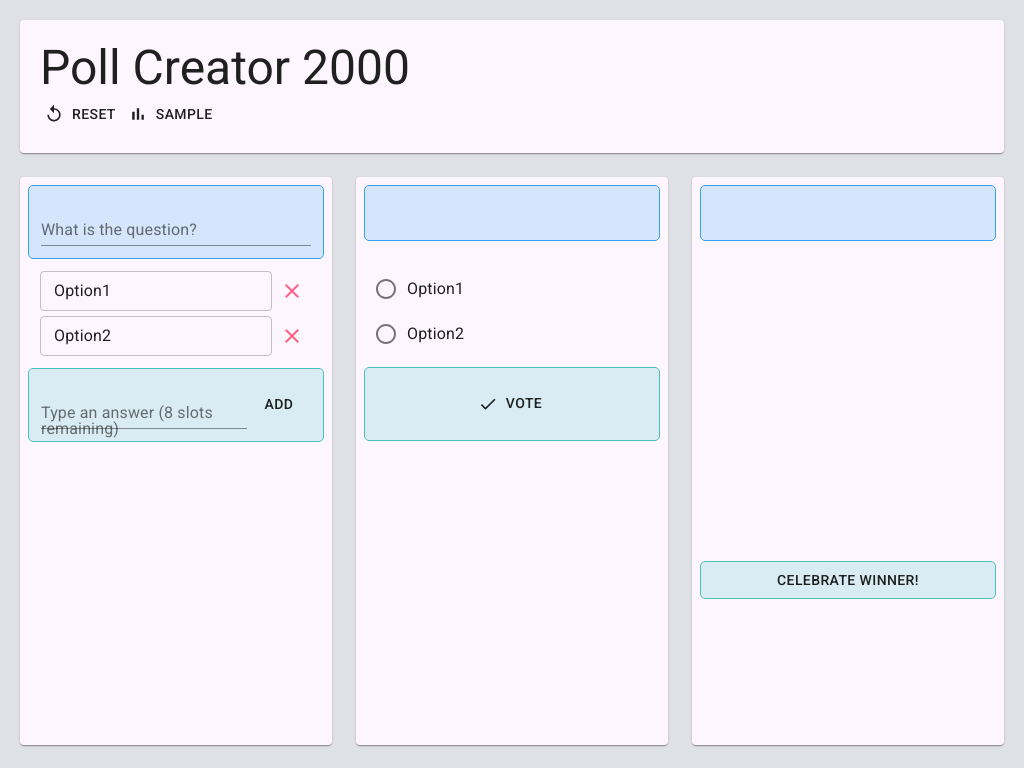
Test: poll_create › user can add a new option to the list
The width and height of the screenshot is (1024, 768).
Type in TestOption
Type "TestOption" into the field with test id "add-option-field". click: (144, 412)
box: [41,396,247,428]
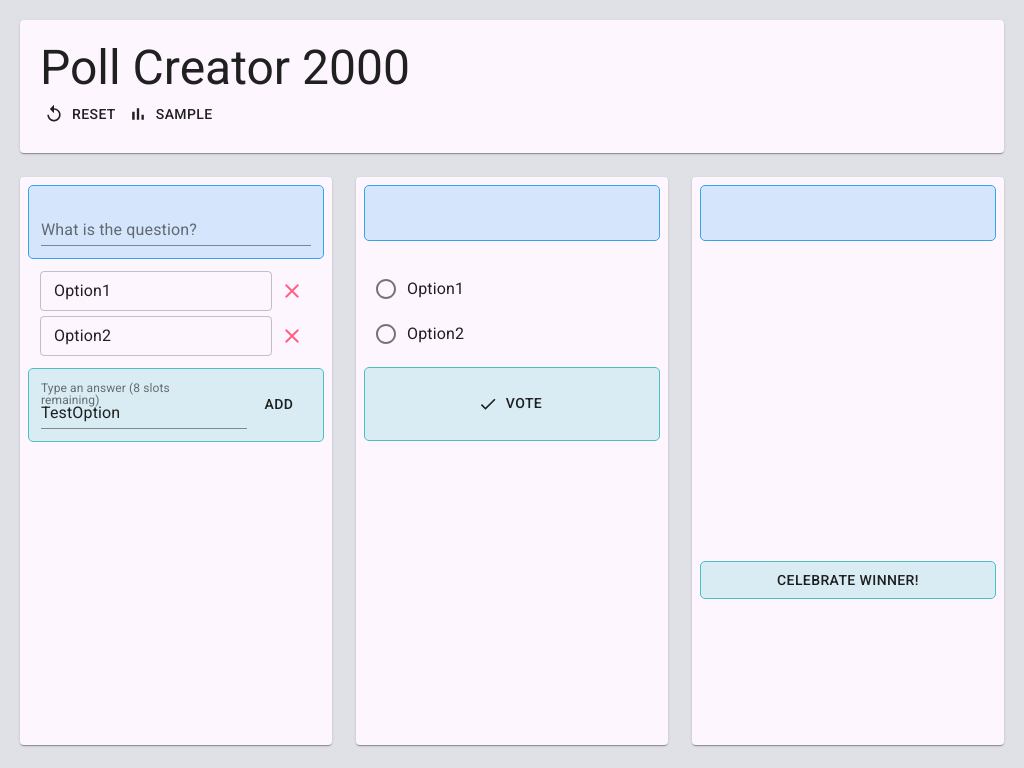
Submit with button
Click the button with test id "add-option-button". click: (279, 404)
box: [247,380,311,428]
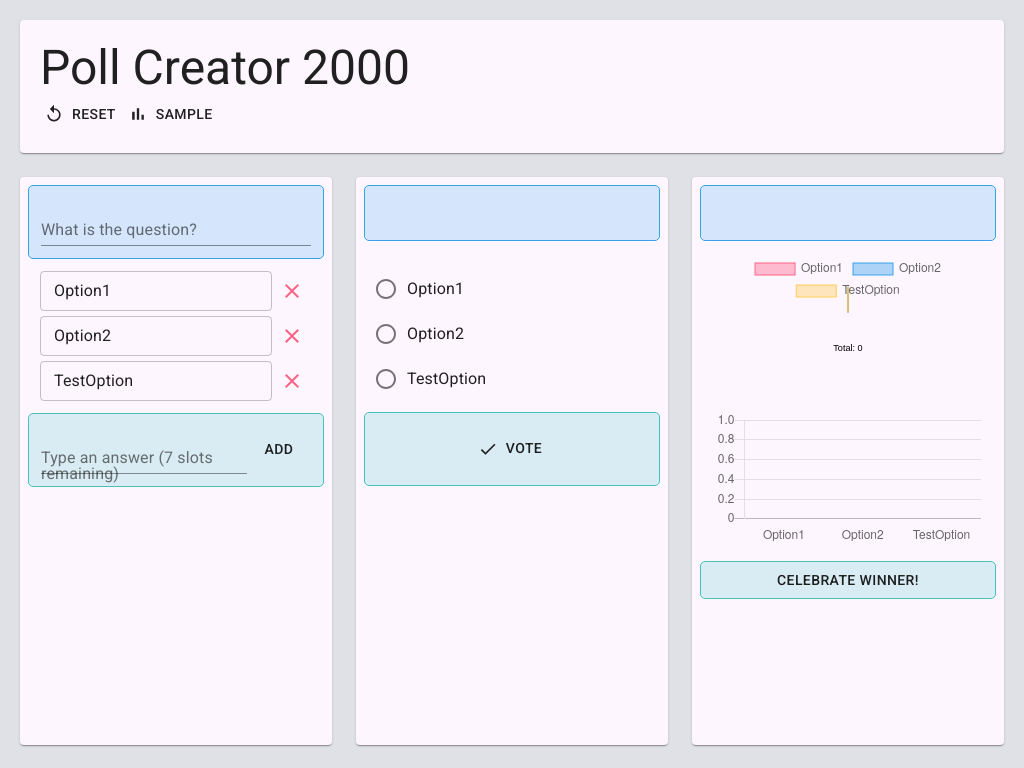
Result: the number of fields with test id "edit-option-list-item" is 3 at [40,270,272,310]; [40,316,272,356]; [40,360,272,400]
Result: the 4th field with test id "edit-option-list-item" holds "TestOption" at [40,360,272,400]
